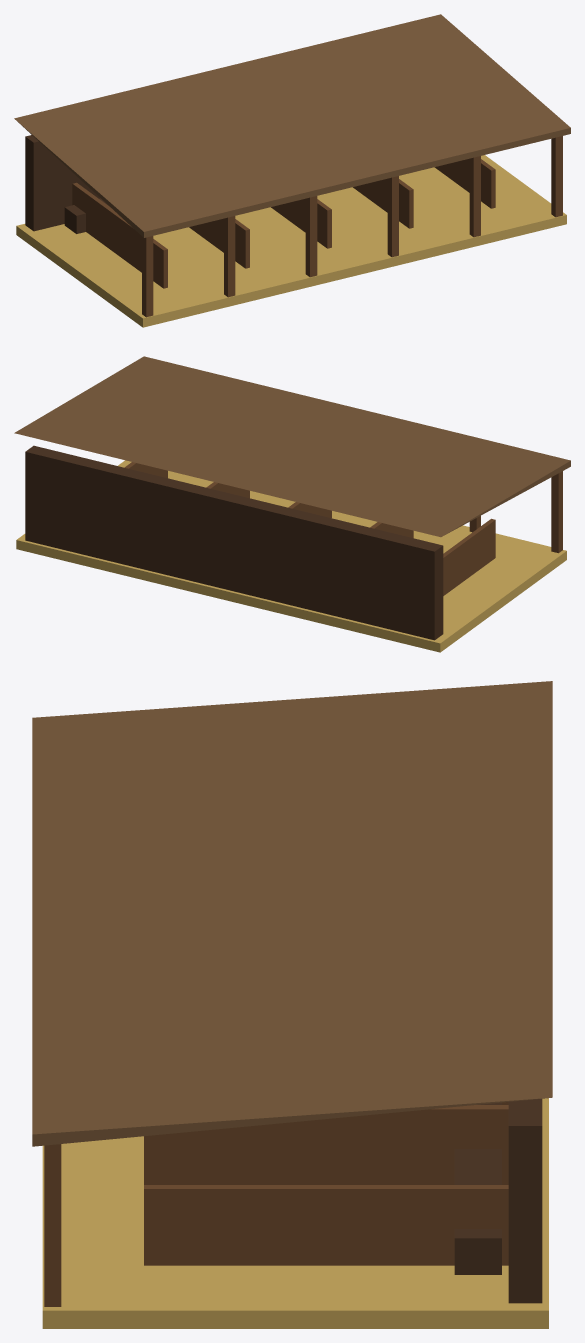
Rendered from stable.glb.
The picture shows the model from 3 angles, top to bottom: view 1: azimuth 30°, elevation 25°; view 2: azimuth 150°, elevation 25°; view 3: azimuth 270°, elevation 25°; orthographic projection. The views are drawn at different scales.
Parts seen in each view (by area): view 1: Stable; view 2: Stable; view 3: Stable.
Part boxes in pixels (x1,y1,x2,y2): Stable: (14, 14, 570, 327); Stable: (14, 356, 570, 652); Stable: (32, 681, 552, 1328).
Size of the model in its own units: 14.6 by 3.8 by 7.7.
